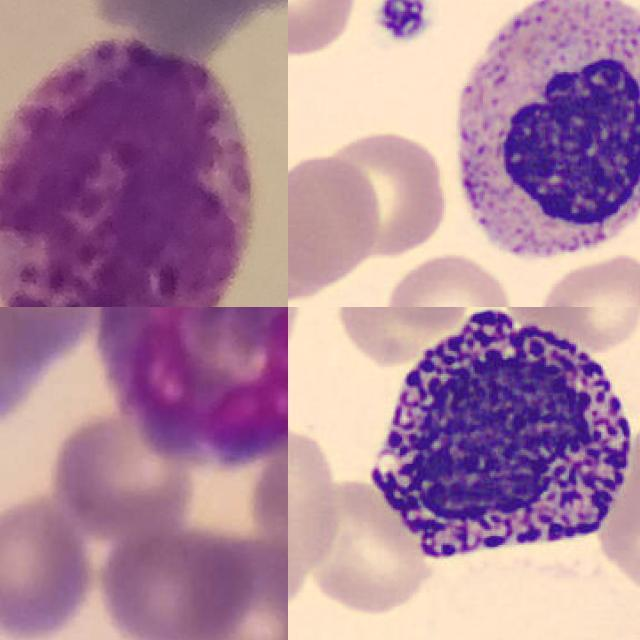Basophil: (350, 307, 640, 580), (0, 41, 256, 307)
Eosinophil: (95, 307, 288, 473)
Lymphocyte: (436, 0, 640, 275)
Platelets: (369, 0, 433, 47)
RBC: (299, 471, 437, 621), (325, 125, 453, 259), (288, 149, 383, 295), (288, 398, 345, 613), (332, 307, 473, 366), (381, 251, 516, 307), (534, 251, 640, 307), (288, 0, 358, 61), (609, 416, 640, 543), (537, 307, 640, 342)
